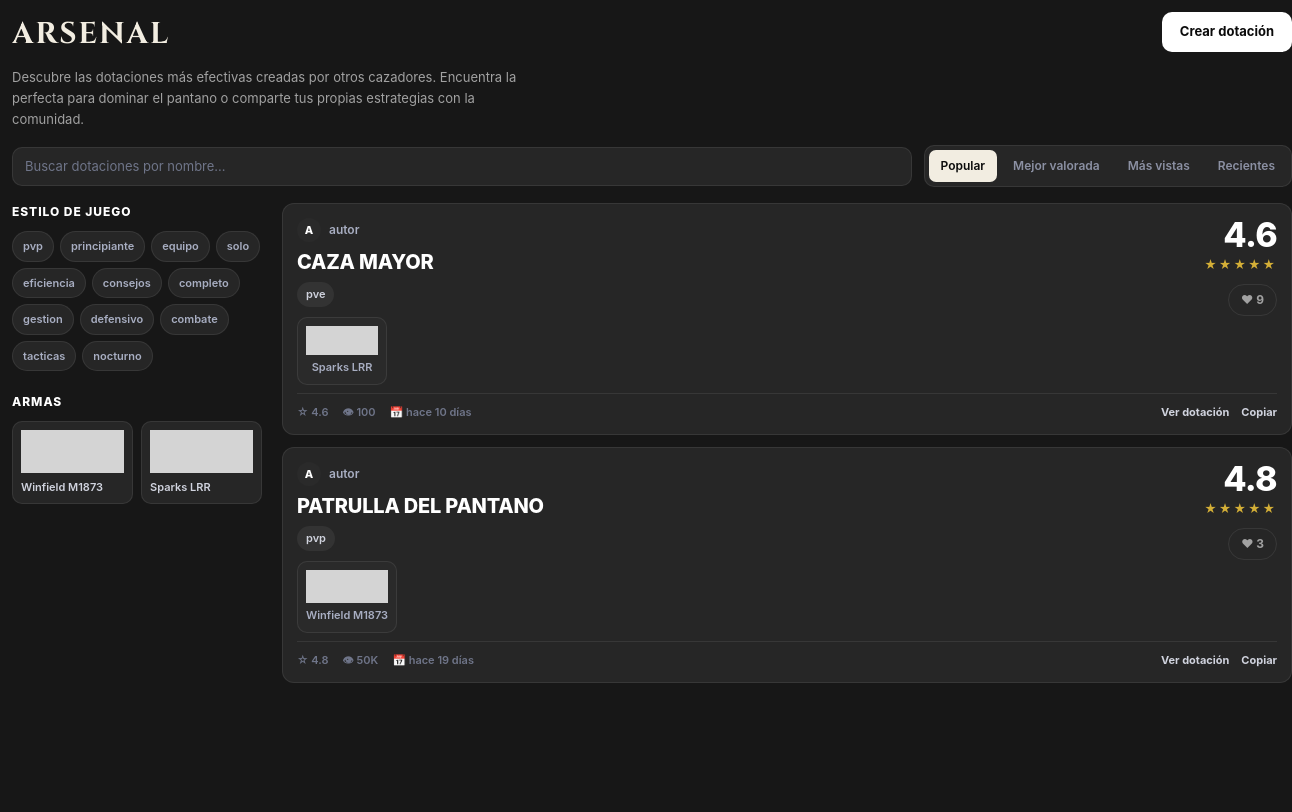
Test: ArsenalBrowser › filters by weapon tile and shows an empty state
Click the button "Sparks LRR": (202, 463) [141,421,262,504]
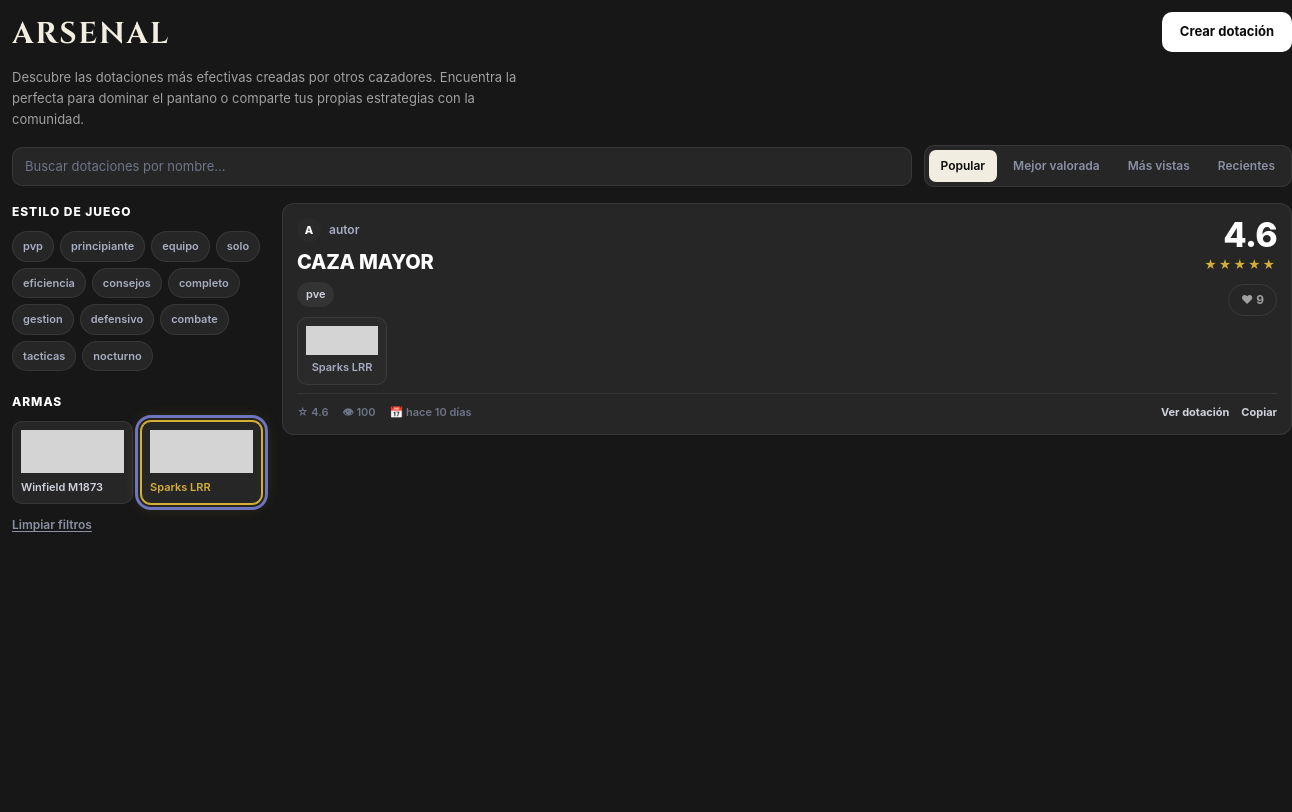
Expected: the heading "Caza mayor" is shown, [297,250,434,274]
Click the button "Sparks LRR": (202, 463) [141,421,262,504]
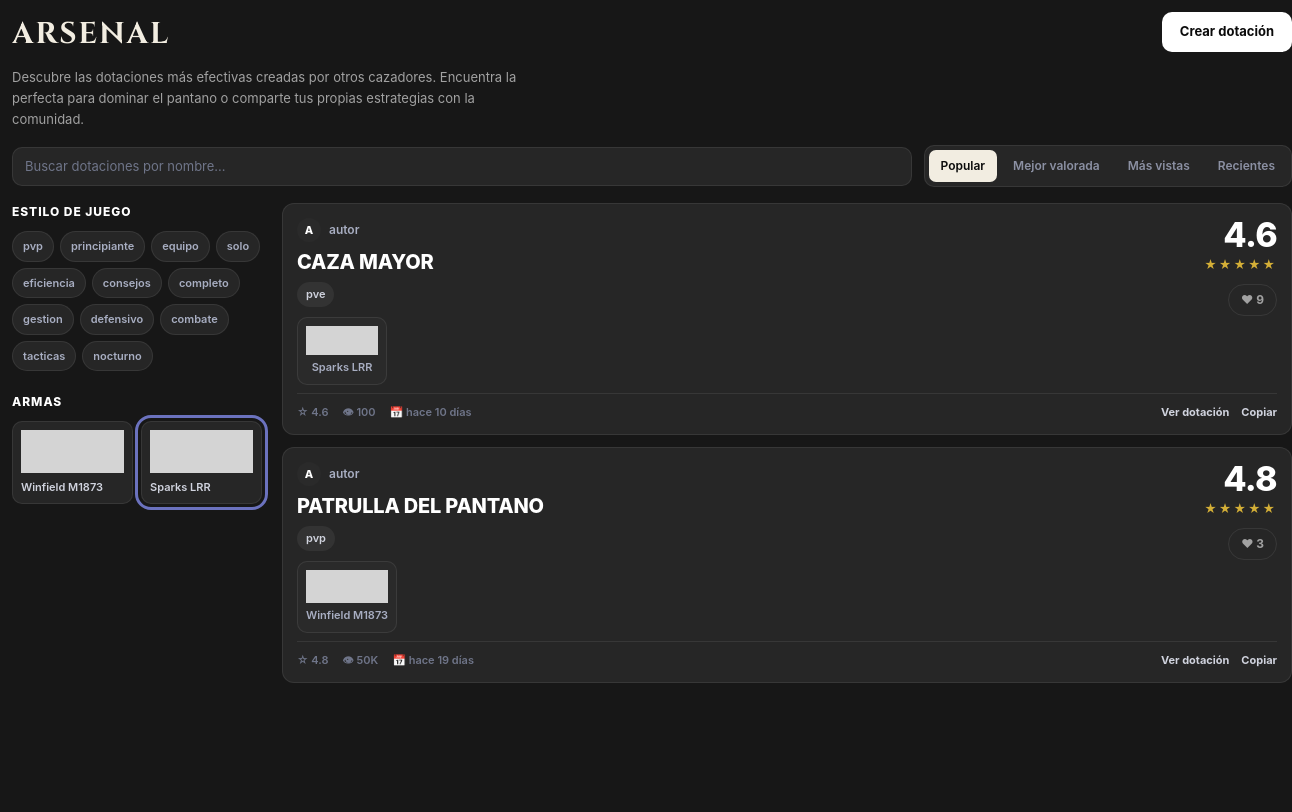
In the search field with placeholder "Buscar dotaciones por nombre...": (462, 166) [12,147,912,186], type "zzz-sin-nada"
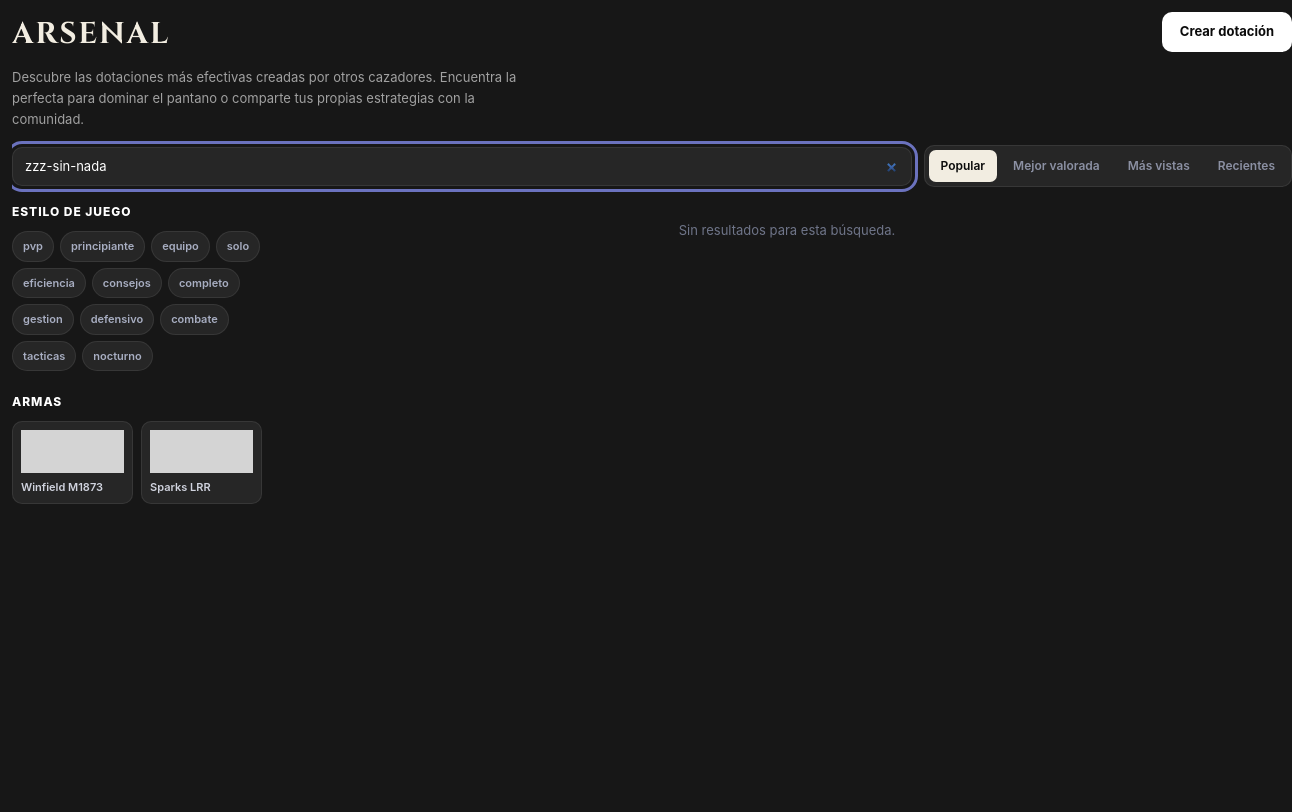
Expected: the text "Sin resultados para esta búsqueda." is shown, [679,222,895,238]
